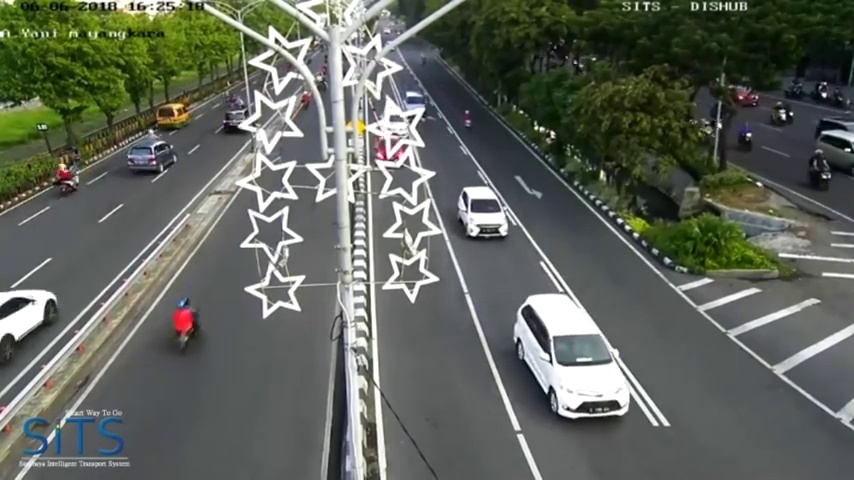car: (513, 283, 632, 423), (1, 287, 63, 365), (454, 183, 509, 242), (130, 138, 177, 175), (817, 127, 854, 173), (155, 100, 189, 132), (221, 107, 248, 134), (403, 88, 426, 118)
motorbike: (175, 299, 200, 352), (56, 152, 82, 195), (807, 150, 831, 189), (739, 120, 755, 152), (772, 100, 787, 124)
